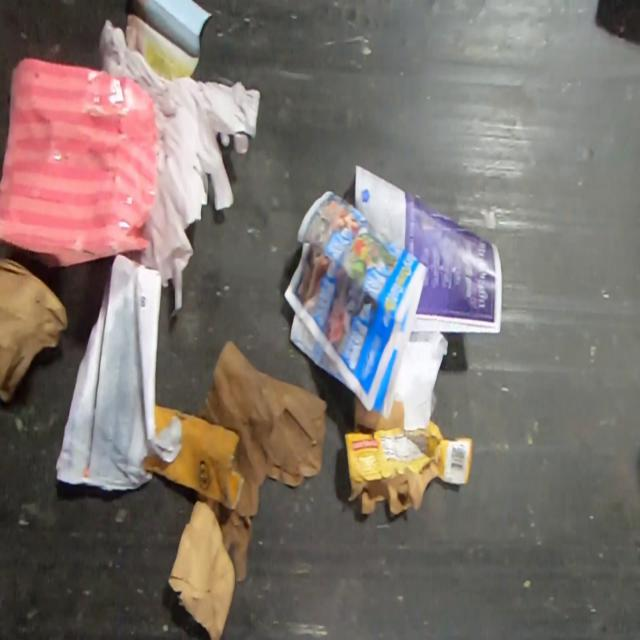cardboard: (344, 392, 475, 518), (124, 0, 213, 82)
